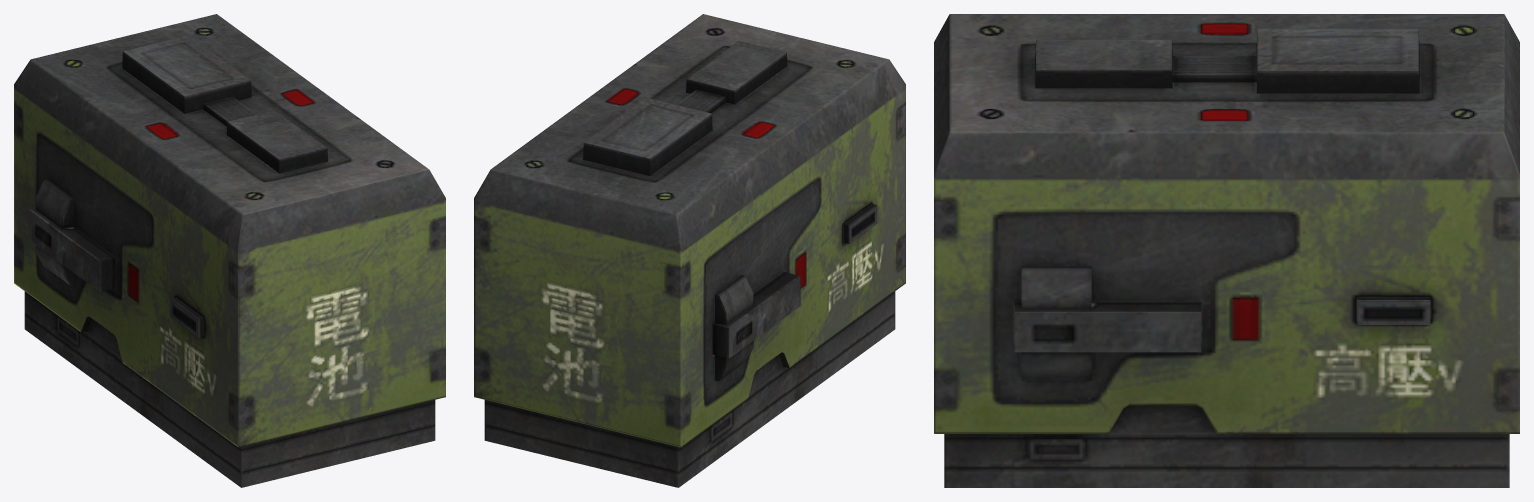
File: battery_computer_table.DAE
3 views of the same model, side by side, from view 1: azimuth 30°, elevation 25°; view 2: azimuth 150°, elevation 25°; view 3: azimuth 270°, elevation 25° (orthographic). The views are drawn at different scales.
Parts seen in each view (by area): view 1: battery_computer_table; view 2: battery_computer_table; view 3: battery_computer_table.
Part boxes in pixels (<box>): battery_computer_table: <box>14,14,445,487</box>; battery_computer_table: <box>474,14,905,487</box>; battery_computer_table: <box>934,14,1519,487</box>.
Bounding box in the file's own units: 18.58 × 30 × 21.24.
